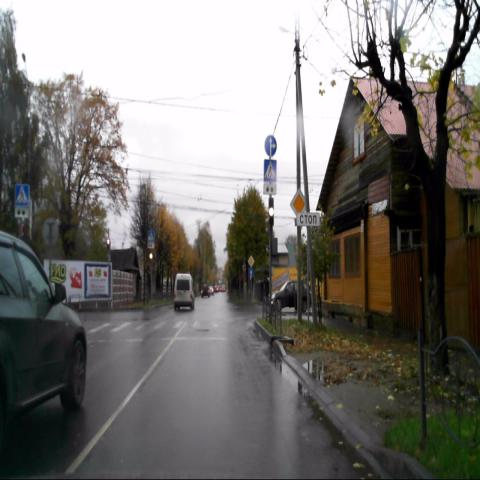4_1_4: (265, 135, 277, 156)
